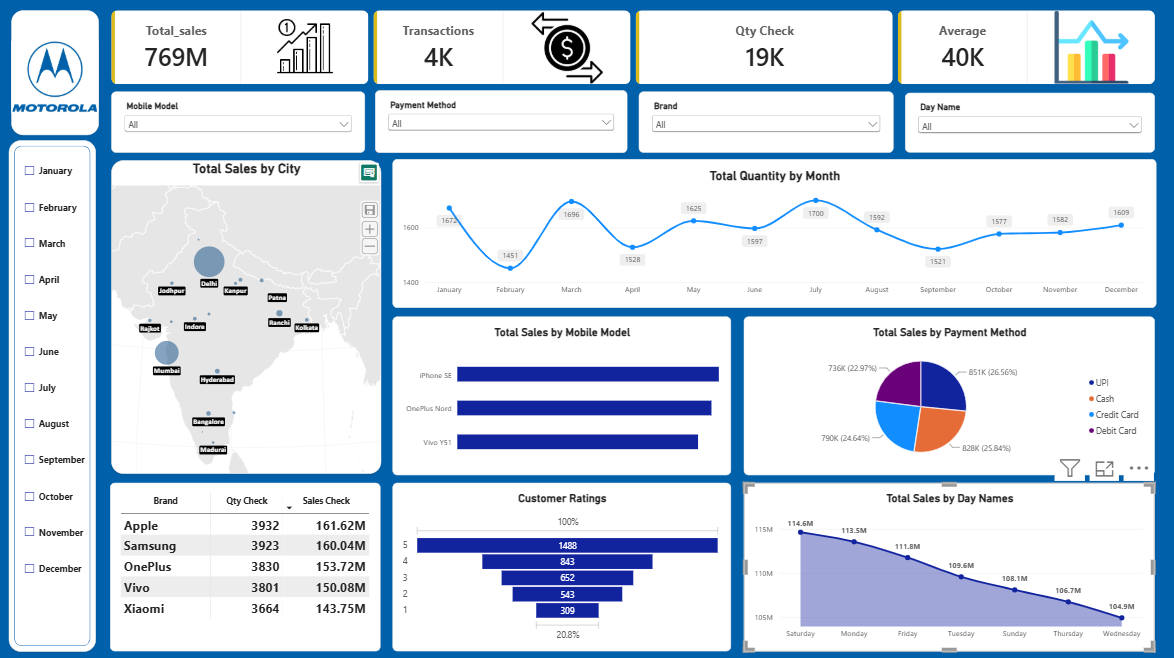

Layout of this report page (visuals, bound fields, positions):
{"tool":"powerbi","page":{"name":"Page 1","canvas":[1920,1080],"ordinal":0},"visuals":[{"type":"shape","box":[5,12.5,165,210],"z":0},{"type":"image","box":[17.5,30,142.5,192.5],"z":1000},{"type":"shape","box":[15,230,142.5,835],"z":2000},{"type":"cardVisual","fields":{"Data":["Avg(Sales_Data.Total_sales)","Avg(Sales_Data.Total_Quantity)","Avg(Sales_Data.Total_Transactions)","Sales_Data.Average"]},"box":[180,13.3,1706.7,136.7],"z":4000},{"type":"maps","title":"Total Sales by City","fields":{"country":["Sales_Data.City"],"measure_chart":["Sum(Sales_Data.Total_sales)"],"measure":["CountNonNull(Sales_Data.City)"],"name":["Min(Sales_Data.City)"]},"box":[180,230,441.7,543.3],"z":5000},{"type":"lineChart","title":"Total Quantity by Month","fields":{"Category":["Sales_Data.Date.Variation.Date Hierarchy.Month","Sales_Data.Date.Variation.Date Hierarchy.Day"],"Y":["Sum(Sales_Data.Total_Quantity)"]},"box":[641.7,230,1245,263.3],"z":6000},{"type":"barChart","title":"Total Sales by Mobile Model","fields":{"Category":["Sales_Data.Mobile Model"],"Y":["Sum(Sales_Data.Total_sales)"]},"box":[641.7,501.7,551.7,260],"z":7000},{"type":"pieChart","title":"Total Sales by Mobile Model","fields":{"Category":["Sales_Data.Payment Method"],"Y":["Sum(Sales_Data.Total_Transactions)"]},"box":[1215,513.3,671.7,260],"z":8000},{"type":"funnel","title":"Customer Ratings","fields":{"Category":["Sales_Data.Customer Ratings"],"Y":["CountNonNull(Sales_Data.Customer Ratings)"]},"box":[641.7,790,551.7,290],"z":9000},{"type":"areaChart","title":"Total_sales by Day Names","fields":{"Category":["Sales_Data.Day Name"],"Y":["Sum(Sales_Data.Total_sales)"]},"box":[1215,790,671.7,290],"z":10000},{"type":"tableEx","fields":{"Values":["Sales_Data.Brand","Sum(Sales_Data.Total_Quantity)","Sum(Sales_Data.Total_sales)"]},"box":[180,790,441.7,275],"z":10001},{"type":"actionButton","box":[0,0,100,40],"z":10002},{"type":"slicer","fields":{"Values":["Sales_Data.Date.Variation.Date Hierarchy.Month"]},"box":[18.5,251.1,119.4,794.5],"z":10003}]}

Visuals, with their boxes in screenshot pixels (x1, y1, x2, y2), scaled from the page's 1920x1080 canvas onto the 1174x658 screenshot:
shape: <box>3,8,104,136</box>
image: <box>11,18,98,136</box>
shape: <box>9,140,96,649</box>
cardVisual - Avg(Sales_Data.Total_sales) x Avg(Sales_Data.Total_Quantity): <box>110,8,1154,91</box>
"Total Sales by City" maps: <box>110,140,380,471</box>
"Total Quantity by Month" lineChart: <box>392,140,1154,301</box>
"Total Sales by Mobile Model" barChart: <box>392,306,730,464</box>
"Total Sales by Mobile Model" pieChart: <box>743,313,1154,471</box>
"Customer Ratings" funnel: <box>392,481,730,657</box>
"Total_sales by Day Names" areaChart: <box>743,481,1154,657</box>
tableEx - Sales_Data.Brand x Sum(Sales_Data.Total_Quantity): <box>110,481,380,649</box>
actionButton: <box>0,0,61,24</box>
slicer - Sales_Data.Date.Variation.Date Hierarchy.Month: <box>11,153,84,637</box>
